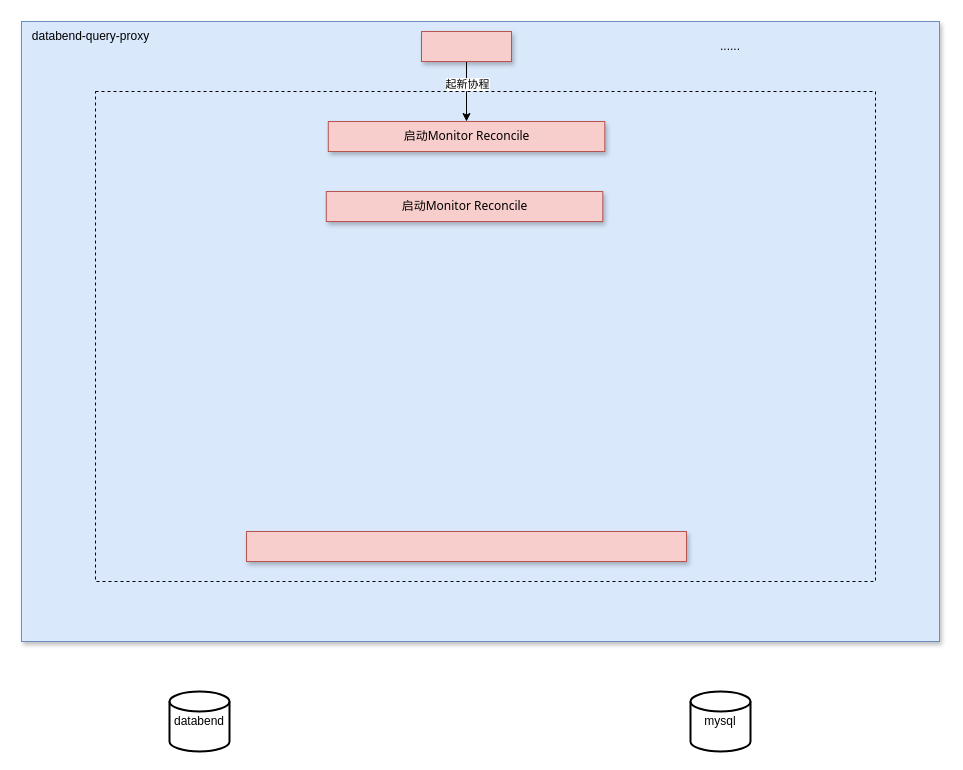
The diagram is 963 pixels wide and 770 high, and some of its shapes have lost their labels. The shapes that lost their labels are listed below. From the top down, each one's centre as x and y in pixels, then its label:
the point at 467,47: proxy
the point at 467,547: 处理返回结果并返回，并更新连接池
